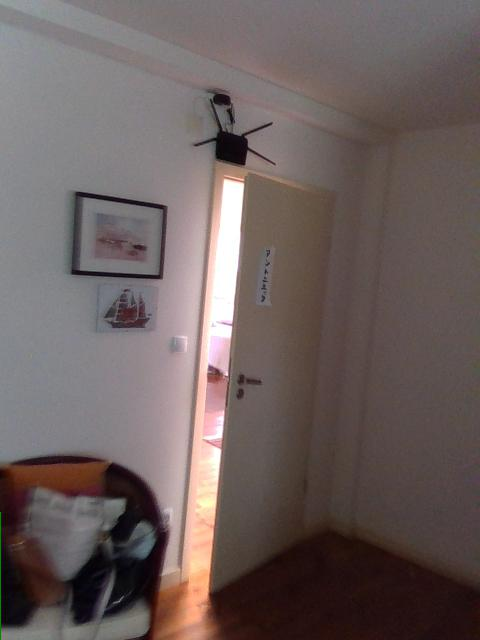semi_door: (179, 159, 338, 600)
